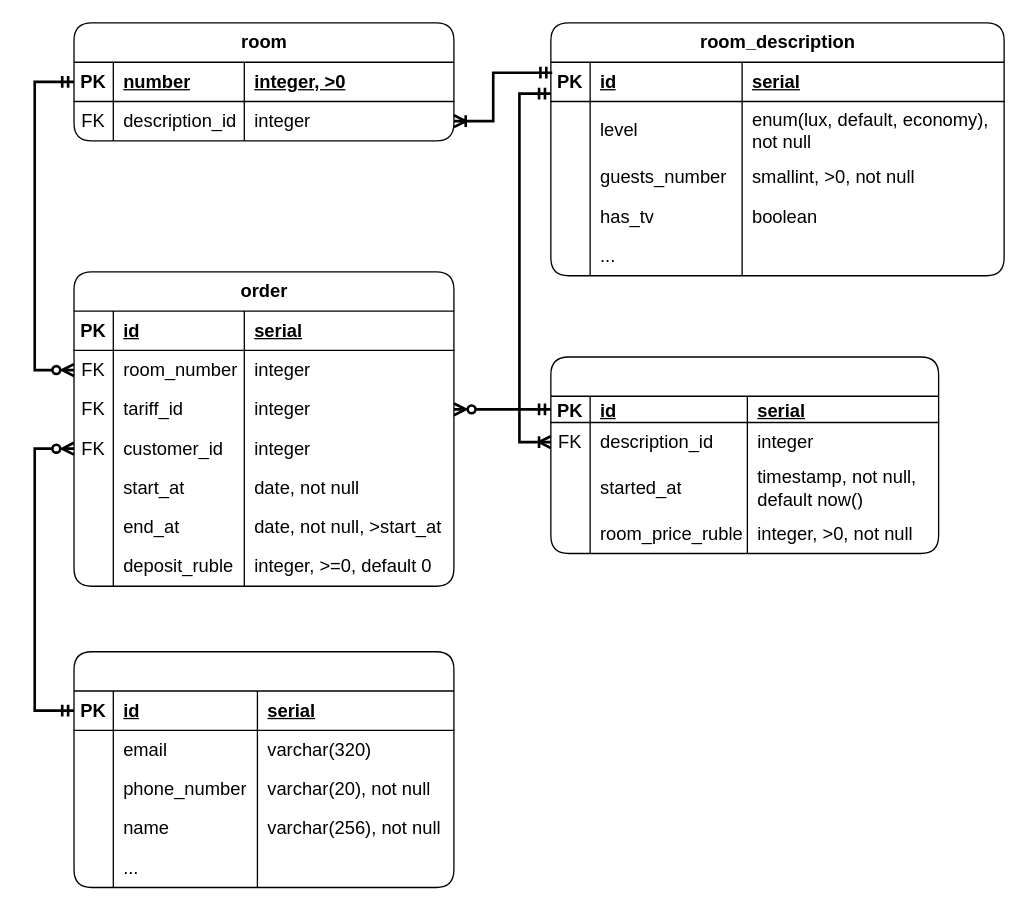
Some shapes in this 1027 by 910 pixel diagram are drawn without their labels. Each missing label, with the box of its shape:
customer: (73, 650, 454, 888)
tariff: (550, 356, 939, 553)
